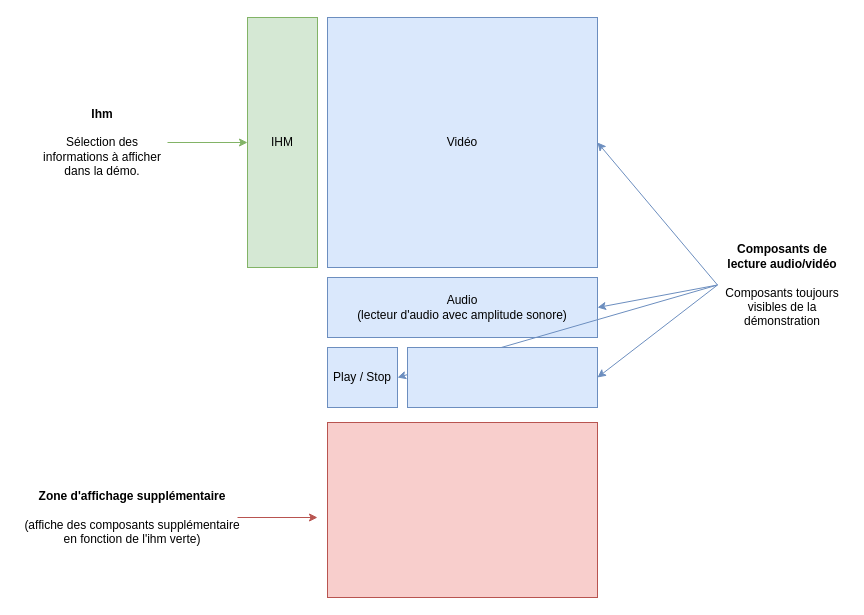
Image size: 864x615. Some labels were removed from this diagram. The centre of each missing label's shape, as x and y in pixels:
Autres options (Volume, zoom sur amplitude sonore, ect): pixel 502 377
Zone d'affichage supplémentaire: pixel 462 510
